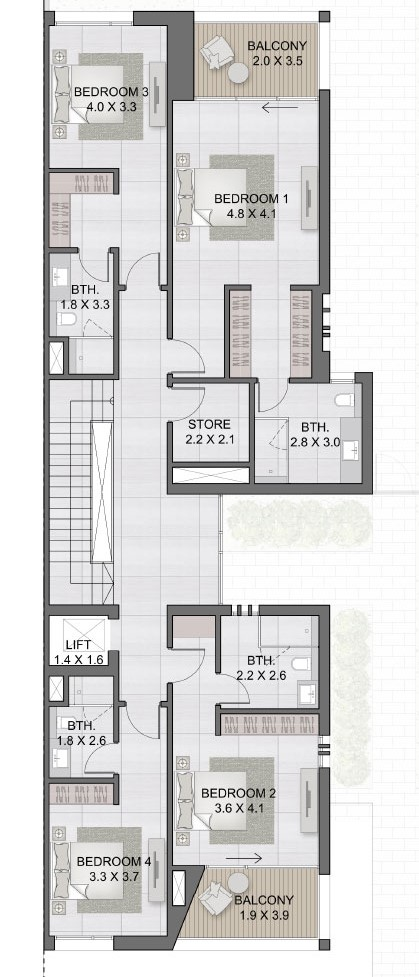room: (165, 90, 336, 382), (164, 598, 333, 876), (42, 775, 177, 952), (40, 11, 174, 176), (43, 664, 170, 785), (247, 376, 377, 494), (212, 605, 333, 718), (44, 245, 122, 379), (163, 377, 255, 469)
